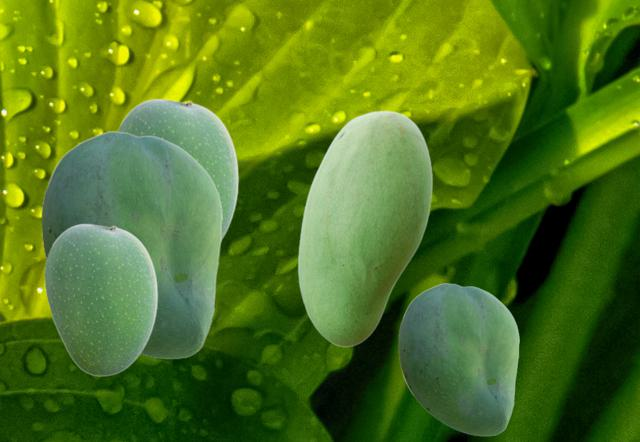green_mango: (41, 131, 221, 358), (297, 110, 431, 346), (398, 283, 518, 435), (116, 98, 238, 241), (44, 223, 157, 375)
